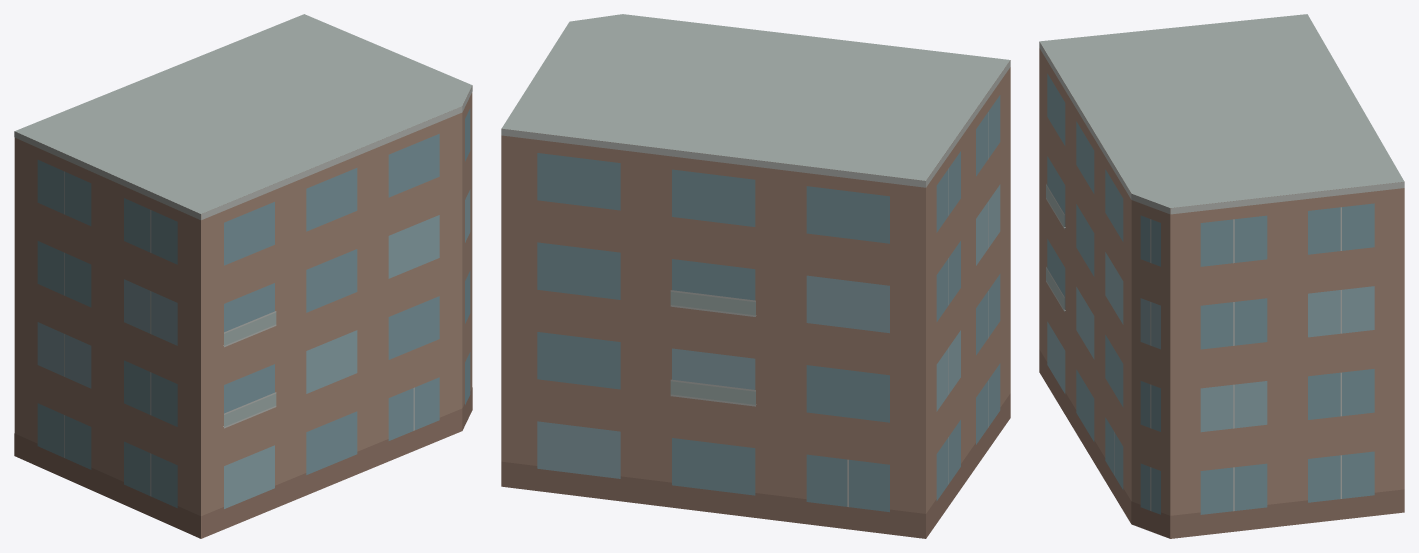
File: survey-upis-32963372.glb
3 renders of one model, left to right at view 1: azimuth 30°, elevation 25°; view 2: azimuth 150°, elevation 25°; view 3: azimuth 270°, elevation 25°, orthographic. The views are drawn at different scales.
Parts seen in each view (by area): view 1: survey-upis-32963372.tmp; view 2: survey-upis-32963372.tmp; view 3: survey-upis-32963372.tmp.
Part boxes in pixels (<box>): survey-upis-32963372.tmp: <box>14,14,472,538</box>; survey-upis-32963372.tmp: <box>501,14,1010,538</box>; survey-upis-32963372.tmp: <box>1039,14,1404,538</box>.
Size of the model in its own units: 16.13 by 12.8 by 12.82.
